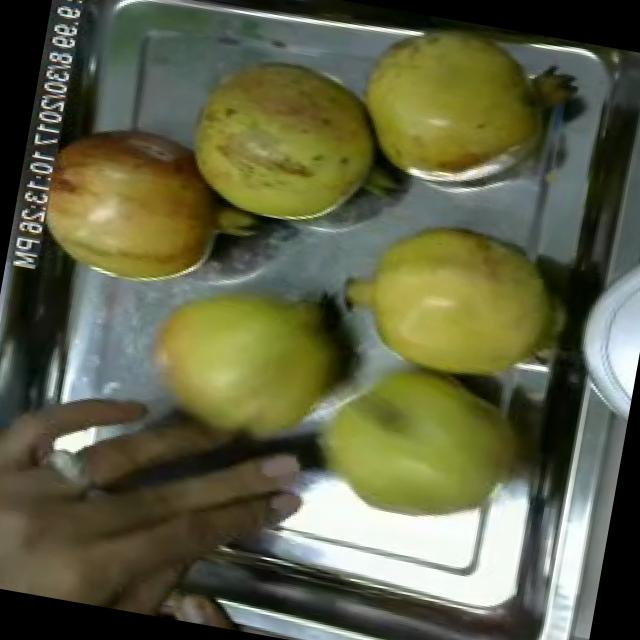fruit: (320, 191, 584, 406), (331, 2, 583, 211), (170, 37, 402, 246), (10, 104, 251, 303)
